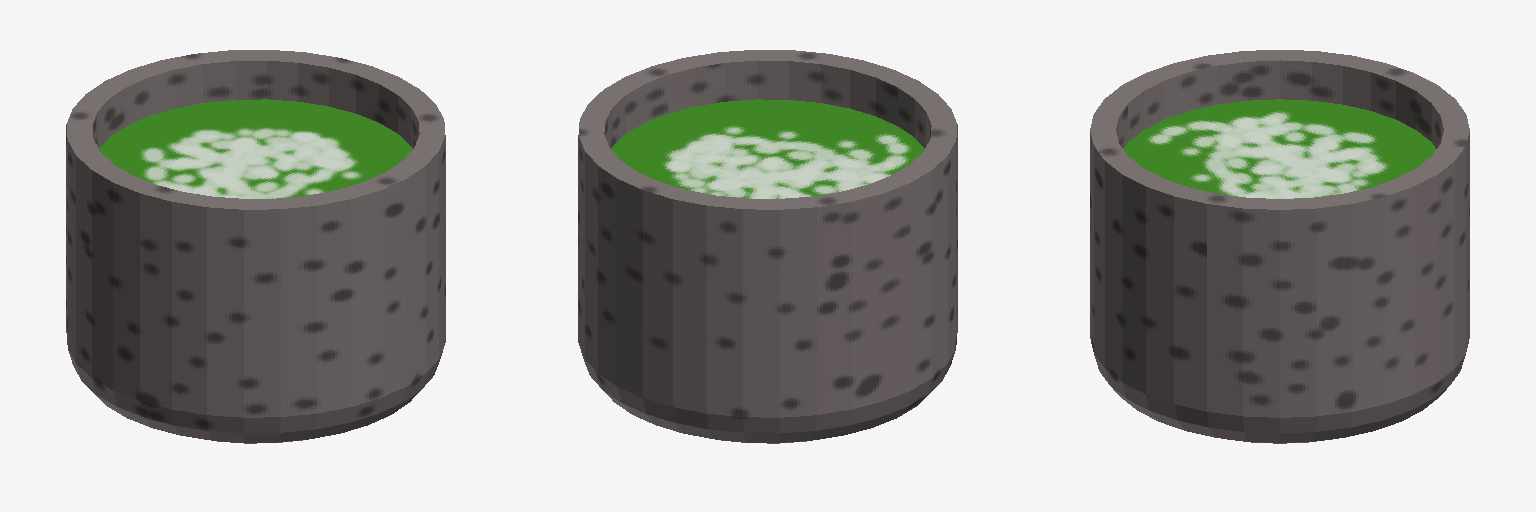
3 renders of one model, left to right at view 1: azimuth 30°, elevation 25°; view 2: azimuth 150°, elevation 25°; view 3: azimuth 270°, elevation 25°, orthographic.
Parts seen in each view (by area): view 1: Cylinder; view 2: Cylinder; view 3: Cylinder.
Part boxes in pixels (x1,y1,x2,y2): Cylinder: (66,50,445,443); Cylinder: (578,50,957,443); Cylinder: (1090,50,1469,443).
Bounding box in the file's own units: 3.07 × 2.25 × 3.07.
Materials: 1 (1 with a texture image).